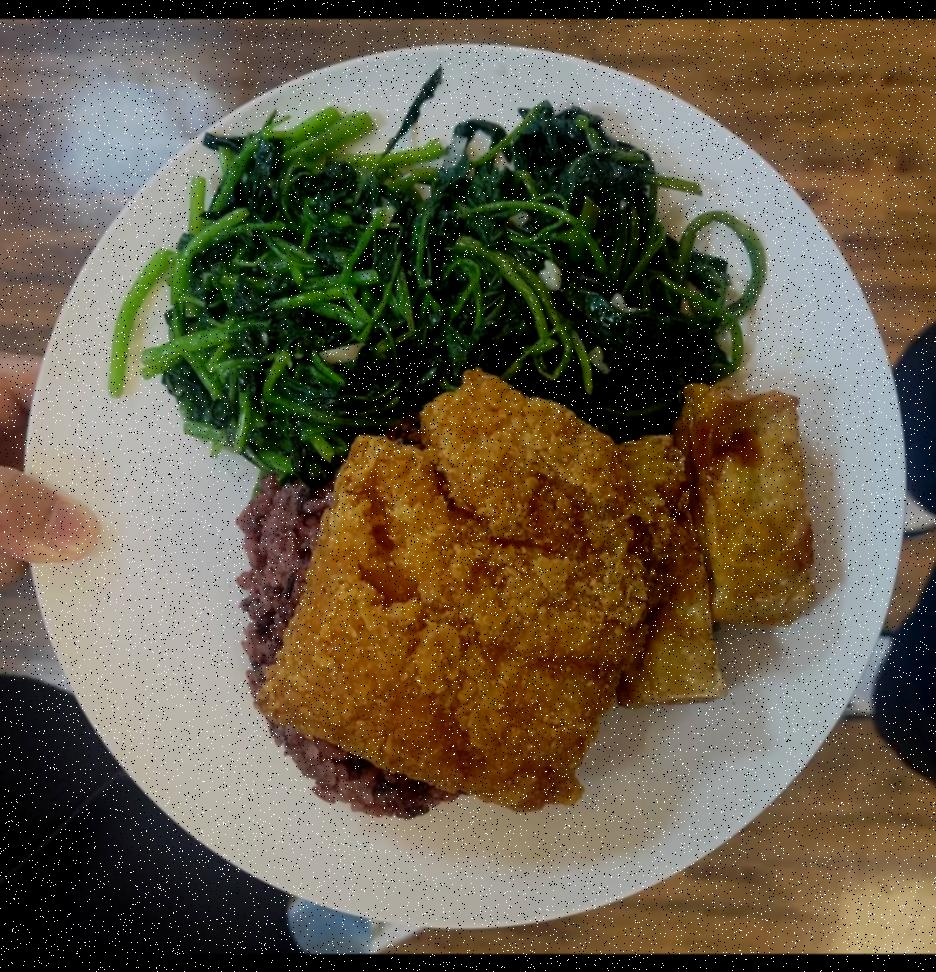kara chicken leg steak: (254, 378, 704, 815)
plate: (14, 45, 924, 932)
purple rice: (232, 463, 506, 818)
side dish: (140, 118, 458, 460), (438, 96, 751, 420), (606, 370, 817, 716)
